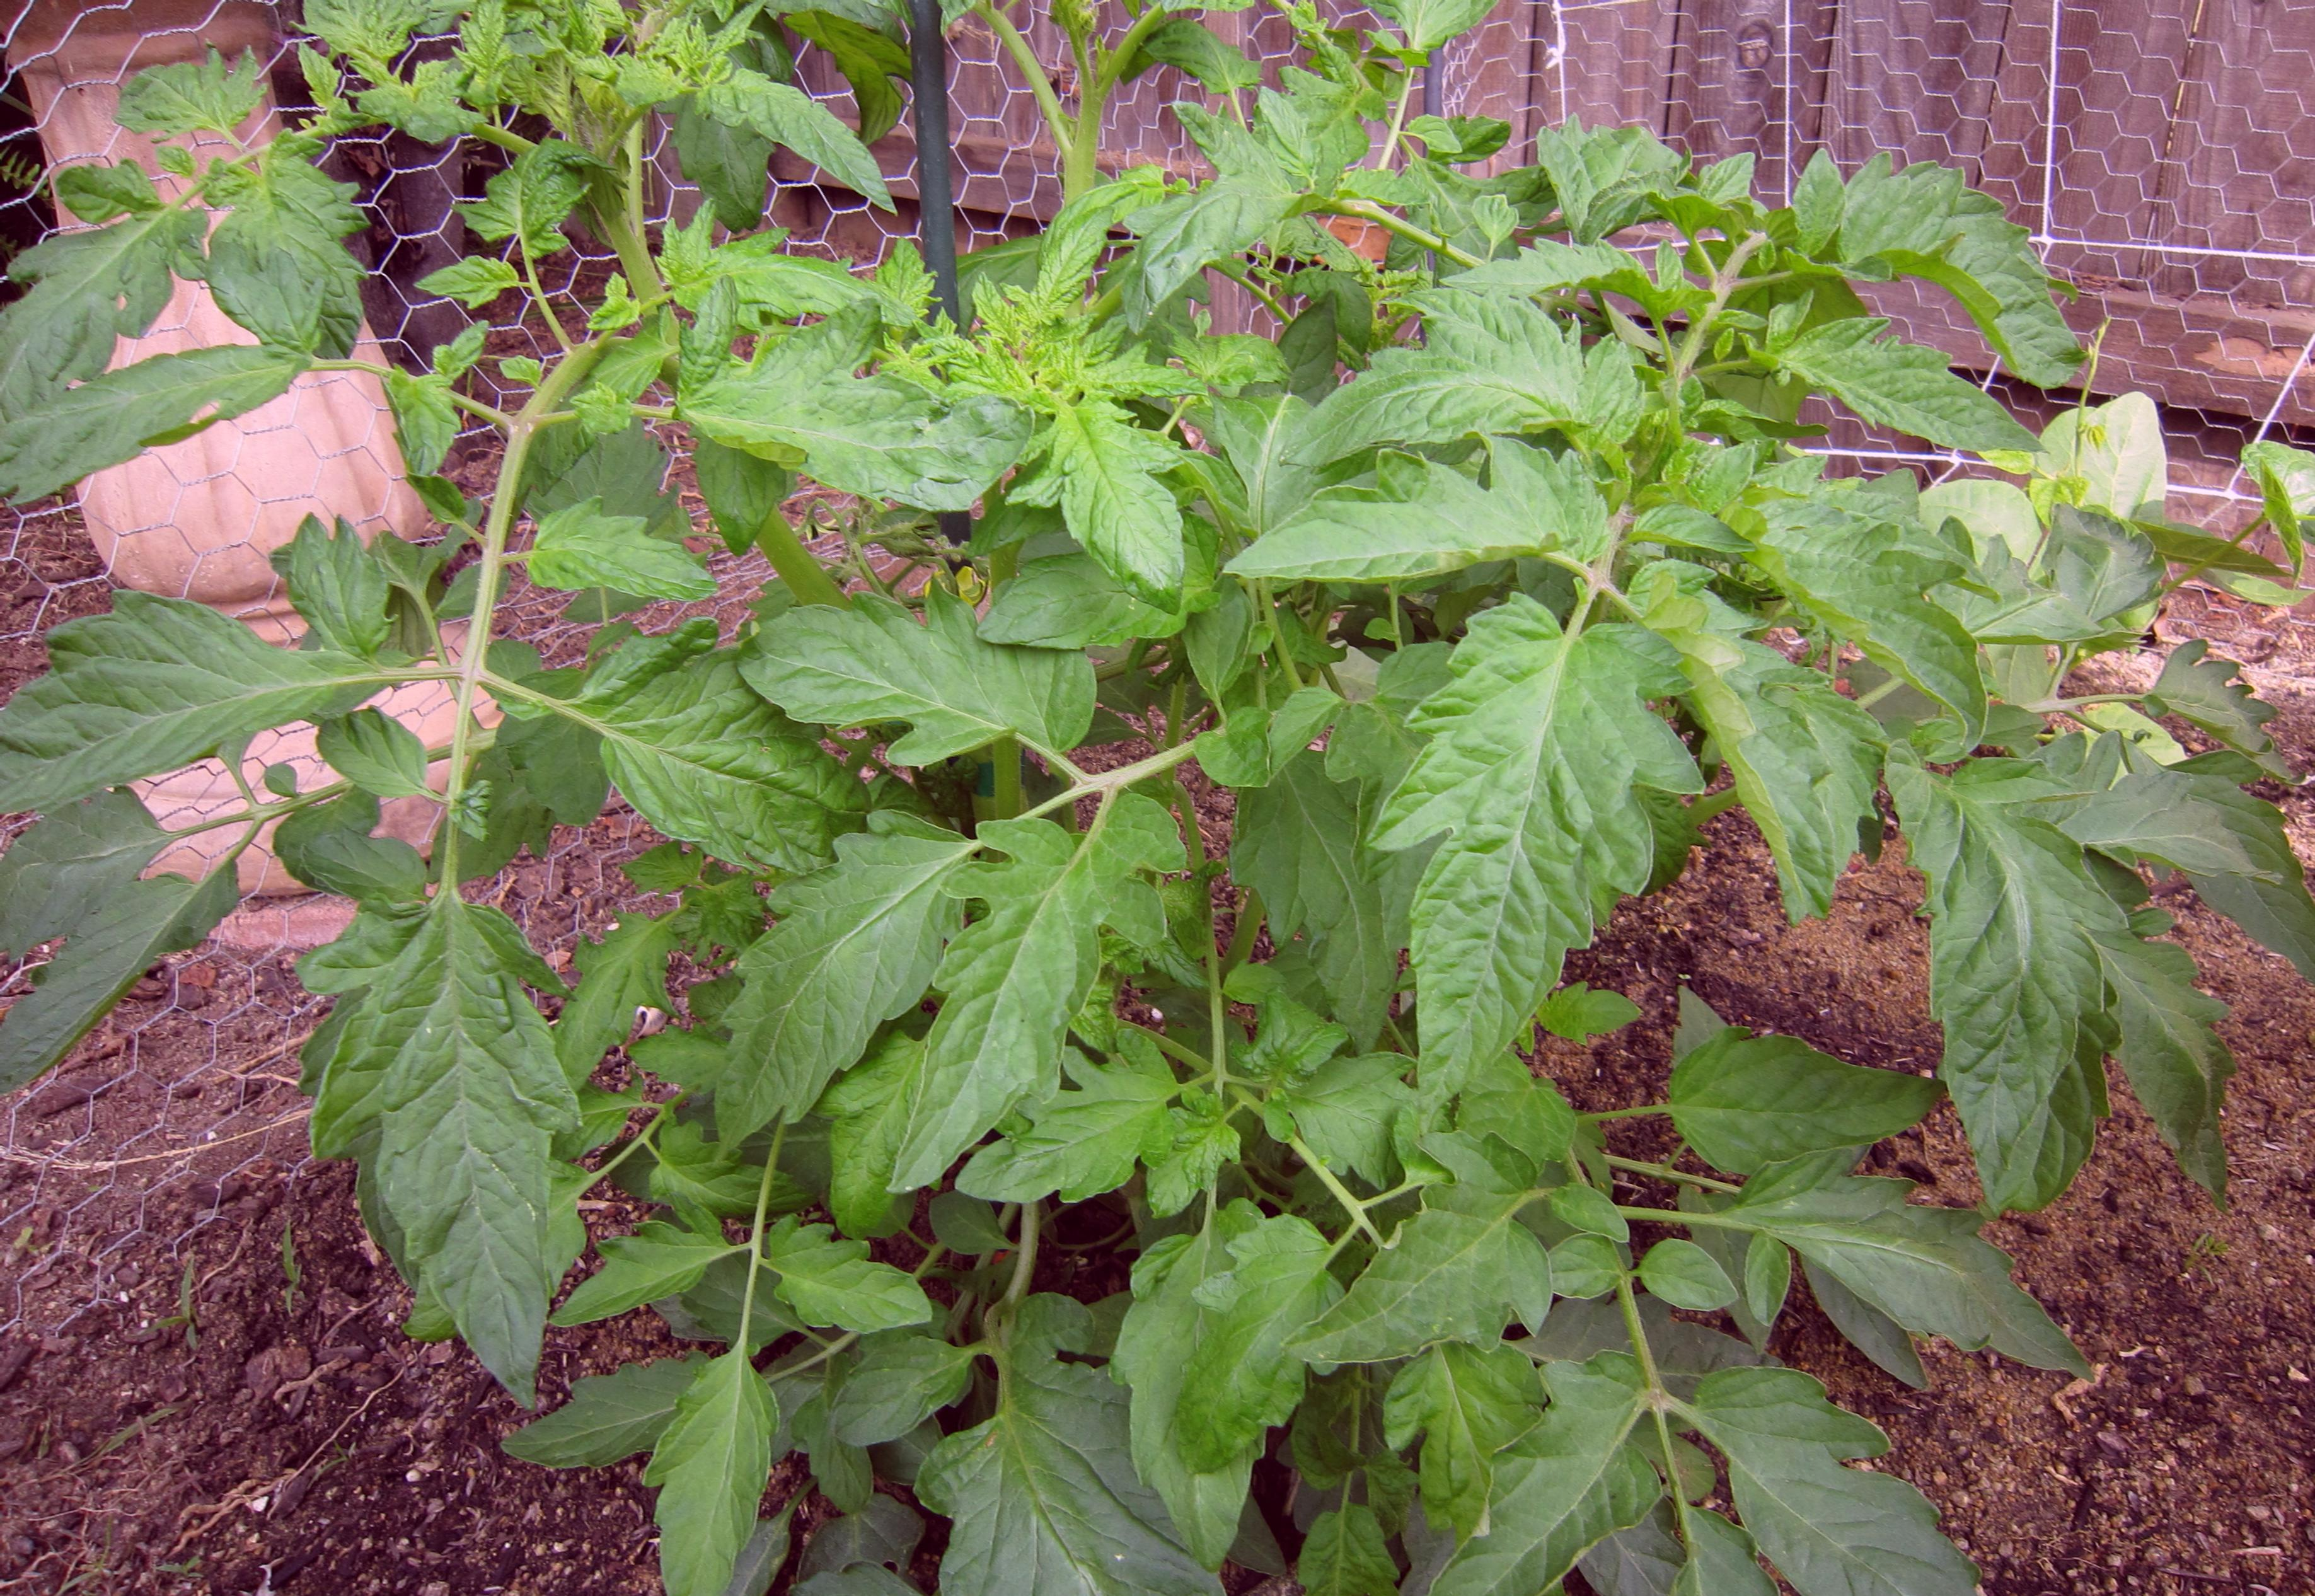Tomato leaf: (329, 903, 596, 1461), (1379, 618, 1662, 1077), (0, 549, 420, 852), (1888, 686, 2104, 1235), (582, 299, 1068, 509), (698, 785, 971, 1154), (1773, 125, 2095, 415), (732, 589, 1110, 813), (1212, 677, 1421, 1079), (1298, 294, 1698, 500), (911, 1332, 1217, 1596), (1638, 558, 1870, 899), (0, 313, 306, 572), (1237, 440, 1599, 649), (1296, 1168, 1590, 1425), (878, 848, 1084, 1214), (1745, 1158, 2063, 1394), (1365, 1357, 1676, 1596), (1706, 1343, 1993, 1596), (0, 827, 252, 1107), (2041, 725, 2315, 978), (1157, 1188, 1374, 1499), (1743, 290, 2032, 507), (1668, 431, 1990, 619), (915, 1058, 1200, 1263), (642, 40, 906, 252), (1126, 86, 1379, 304), (1643, 1015, 1930, 1188), (1404, 206, 1708, 364), (1024, 380, 1194, 619), (1205, 500, 1574, 586), (500, 498, 744, 611), (1347, 0, 1523, 86)
